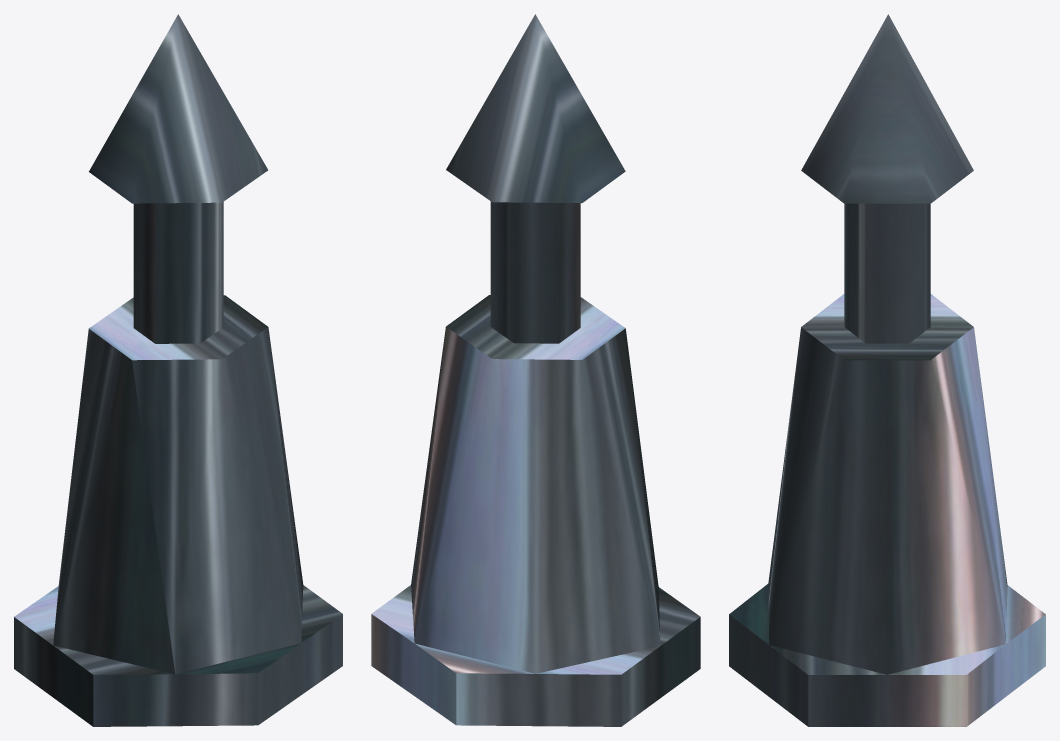
Rendered from PegPlasticT1Mini1.fbx.
3 renders of one model, left to right at view 1: azimuth 30°, elevation 25°; view 2: azimuth 150°, elevation 25°; view 3: azimuth 270°, elevation 25°, orthographic.
Parts seen in each view (by area): view 1: PegPlasticT1Mini1; view 2: PegPlasticT1Mini1; view 3: PegPlasticT1Mini1.
Boxes of the visible parts, x1,y1,x2,y2 form: PegPlasticT1Mini1: [14, 14, 342, 726]; PegPlasticT1Mini1: [371, 14, 700, 726]; PegPlasticT1Mini1: [729, 14, 1045, 726].
Bounding box in the file's own units: 1.03 × 2.56 × 1.13.
1 material, 1 textured.
